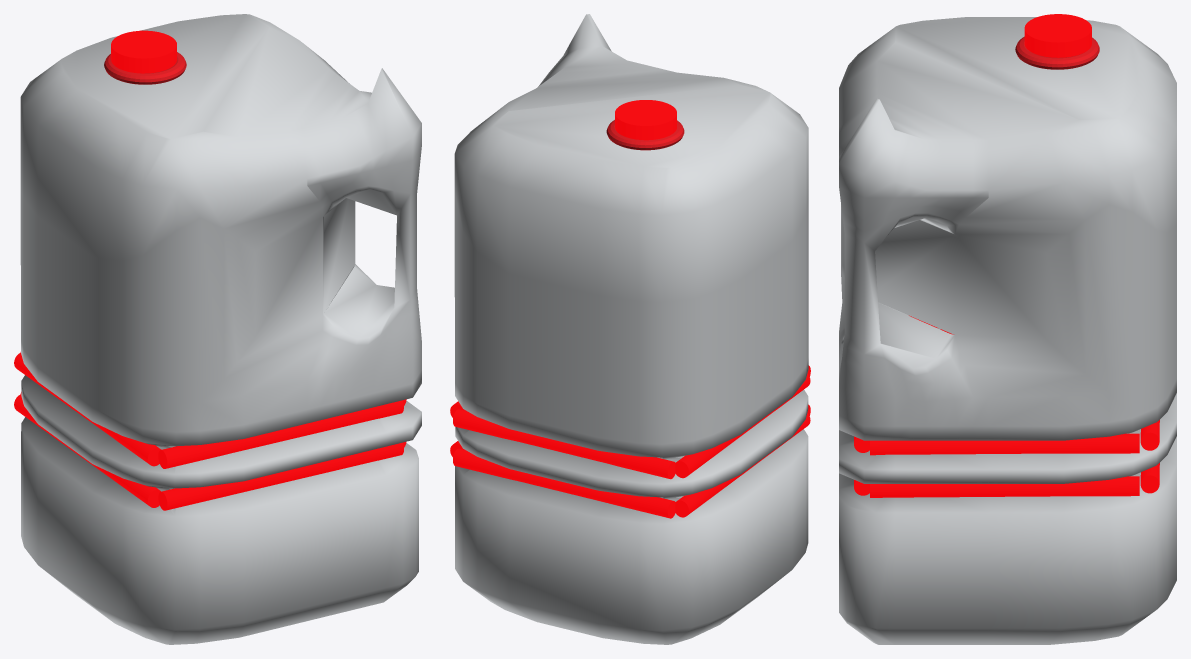
Rendered from milkjug.glb.
3 views of the same model, side by side, from view 1: azimuth 30°, elevation 25°; view 2: azimuth 150°, elevation 25°; view 3: azimuth 270°, elevation 25° (orthographic). The views are drawn at different scales.
Visible parts, largest first — view 1: Cube, Cylinder.013, Cylinder.012, Cylinder, Cylinder.015, Torus.001, Cylinder.010; view 2: Cube, Cylinder.014, Cylinder.011, Cylinder, Cylinder.015, Cylinder.010, Torus.001; view 3: Cube, Cylinder.016, Cylinder.009, Cylinder, Torus.001.
Part boxes in pixels (box(x1,y1,x2,y2)): Cube: box(20, 14, 421, 644); Cylinder.013: box(158, 400, 403, 468); Cylinder.012: box(158, 442, 403, 510); Cylinder: box(111, 30, 176, 73); Cylinder.015: box(14, 352, 161, 466); Torus.001: box(104, 52, 186, 84); Cylinder.010: box(14, 394, 160, 507); Cube: box(454, 14, 808, 644); Cylinder.014: box(453, 409, 675, 479); Cylinder.011: box(453, 448, 675, 518); Cylinder: box(615, 100, 676, 140); Cylinder.015: box(675, 374, 810, 478); Cylinder.010: box(675, 413, 810, 517); Torus.001: box(606, 120, 684, 150); Cube: box(839, 17, 1176, 644); Cylinder.016: box(870, 433, 1139, 455); Cylinder.009: box(870, 476, 1139, 497); Cylinder: box(1024, 14, 1091, 57); Torus.001: box(1015, 36, 1099, 69).
Bounding box in the file's own units: 2 × 3.55 × 2.
